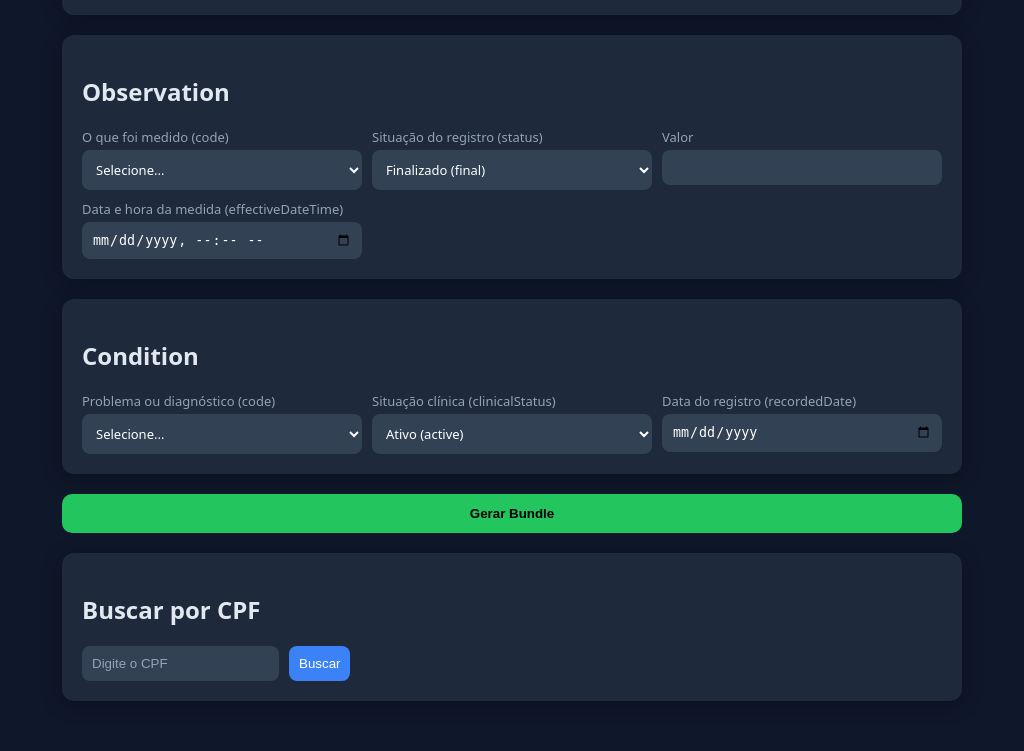
Test: recusa do servidor mostra o motivo
The width and height of the screenshot is (1024, 751).
(page scrolled)
Click the button "Gerar Bundle". click: (512, 514)
box: x1=62 y1=494 x2=962 y2=533
(page scrolled)
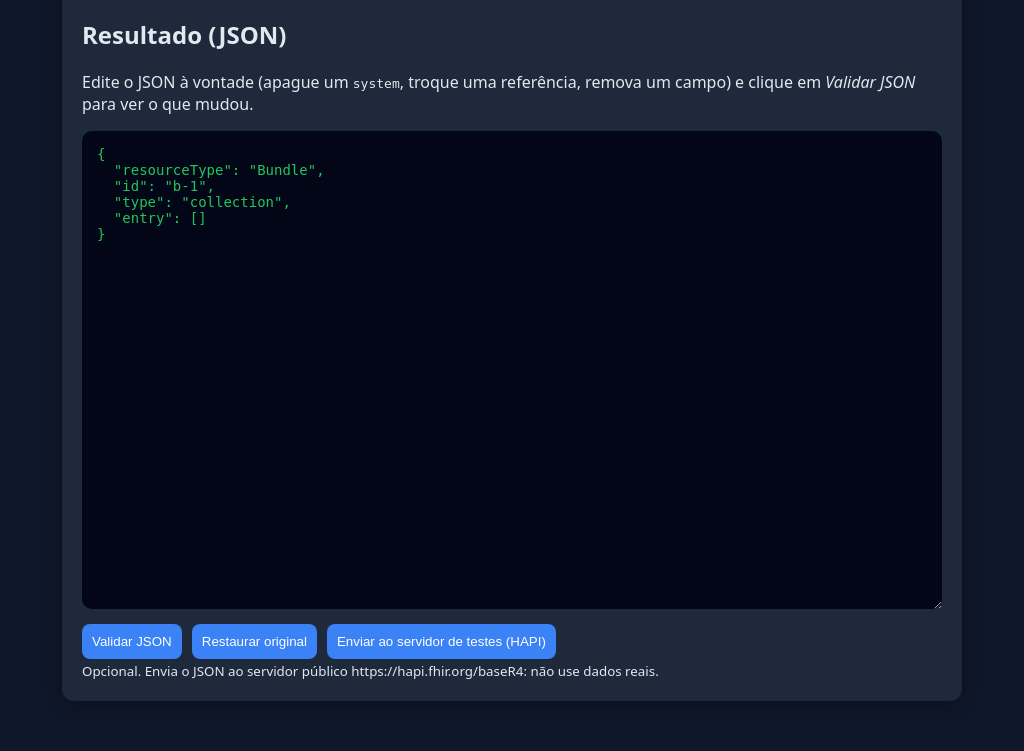
Check: the heading "Resultado (JSON)" is shown, box x1=82 y1=18 x2=286 y2=51
Click the button "Enviar ao servidor de testes (HAPI)". click: (441, 641)
box: x1=327 y1=624 x2=556 y2=659
(page scrolled)
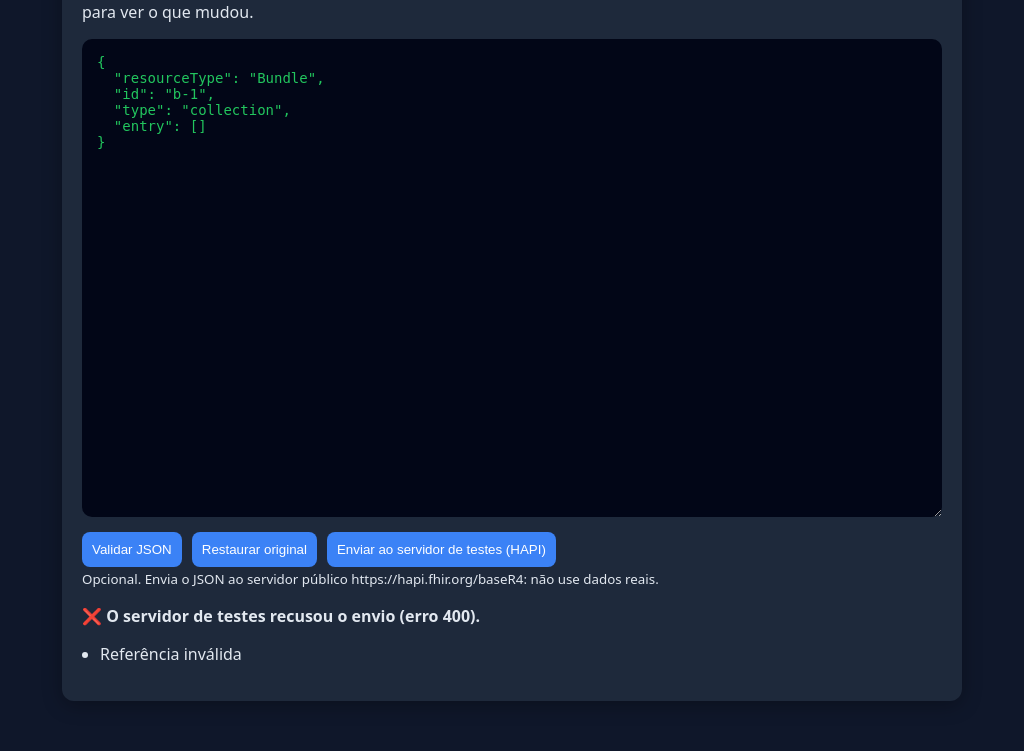
Check: the text "❌ O servidor de testes recusou o envio (erro 400)." is shown, box x1=82 y1=605 x2=480 y2=627
Check: the list item "Referência inválida" is shown, box x1=100 y1=643 x2=242 y2=665
